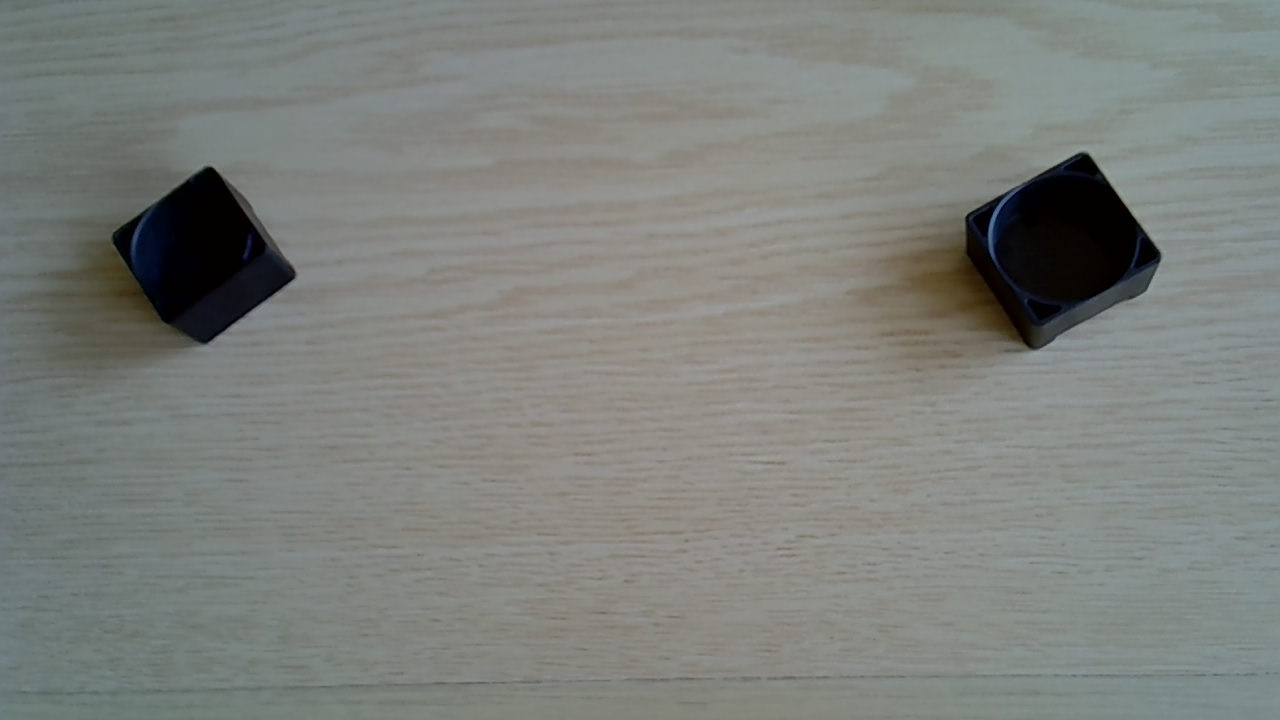Behaelter: (961, 149, 1163, 350), (112, 163, 300, 348)
